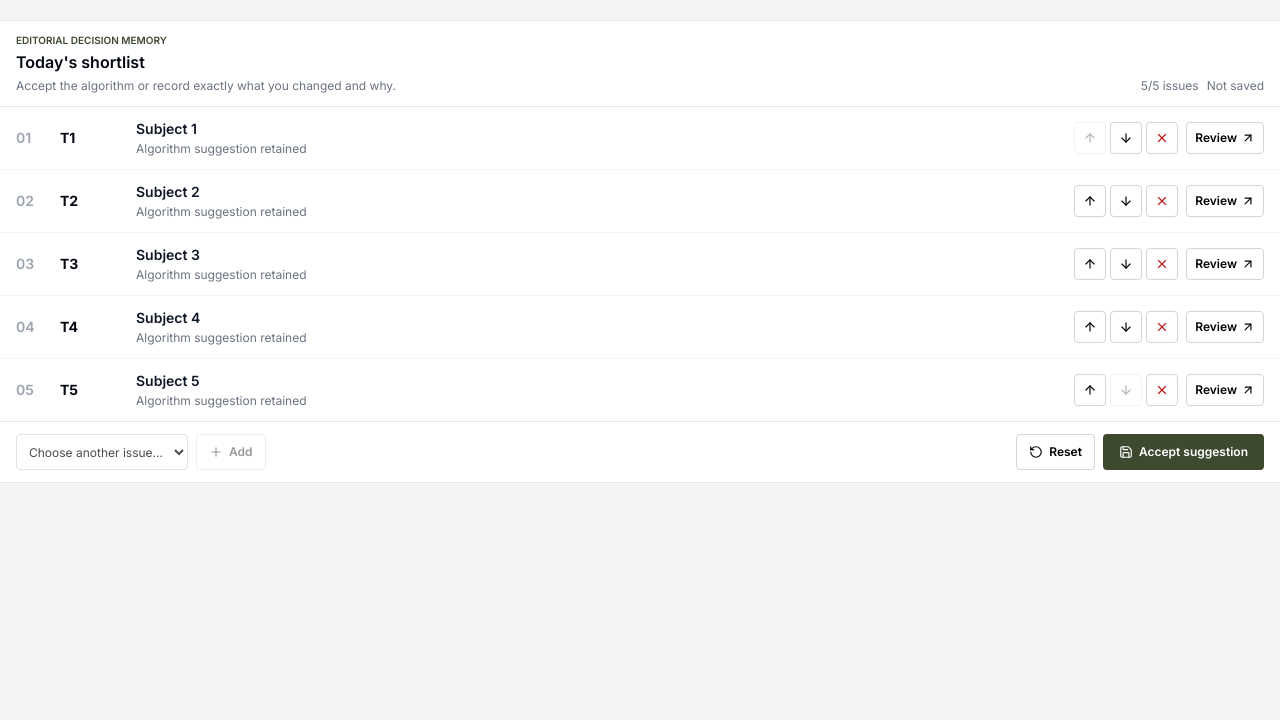
Test: NewsletterEditorialShortlist › resets dirty choices to the pinned evidence snapshot
This screenshot has width=1280, height=720.
Click the button named "Move T1 down" at (1126, 138), box x1=1110 y1=122 x2=1142 y2=154
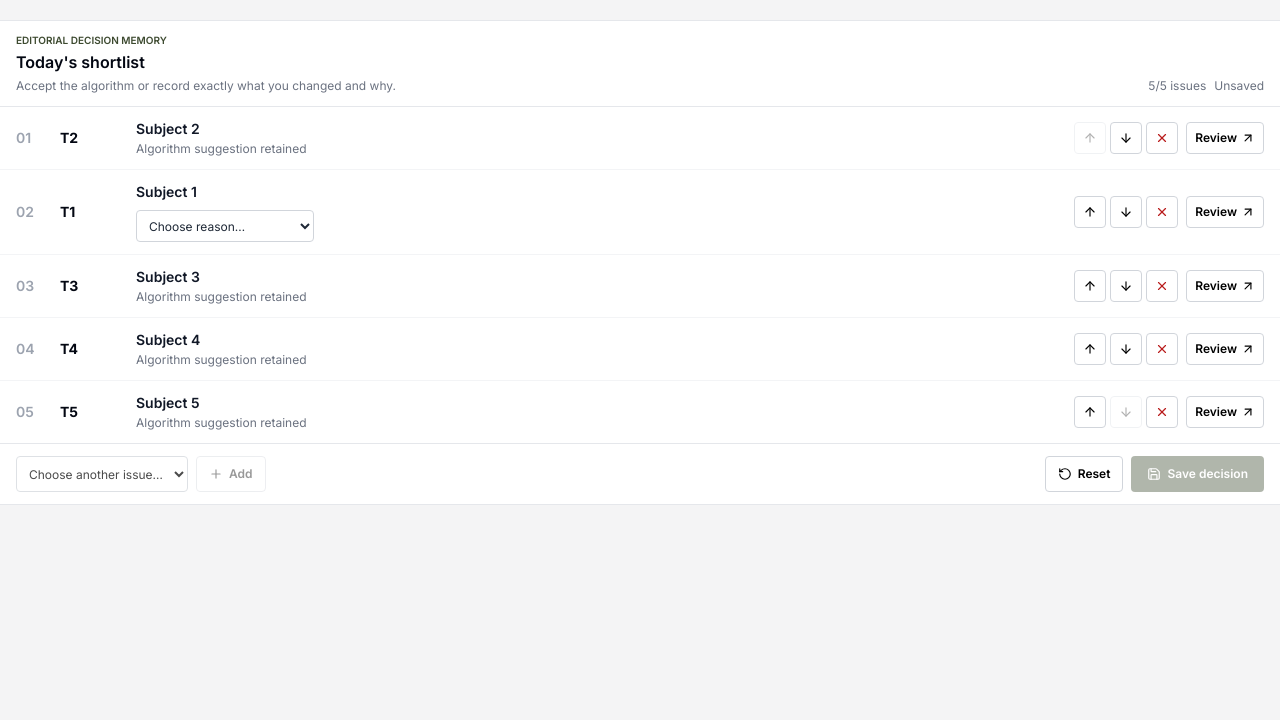
Now the text "Unsaved" is shown, box x1=1214 y1=78 x2=1264 y2=94
Click the button "Reset" at (1084, 474), box x1=1045 y1=456 x2=1124 y2=492
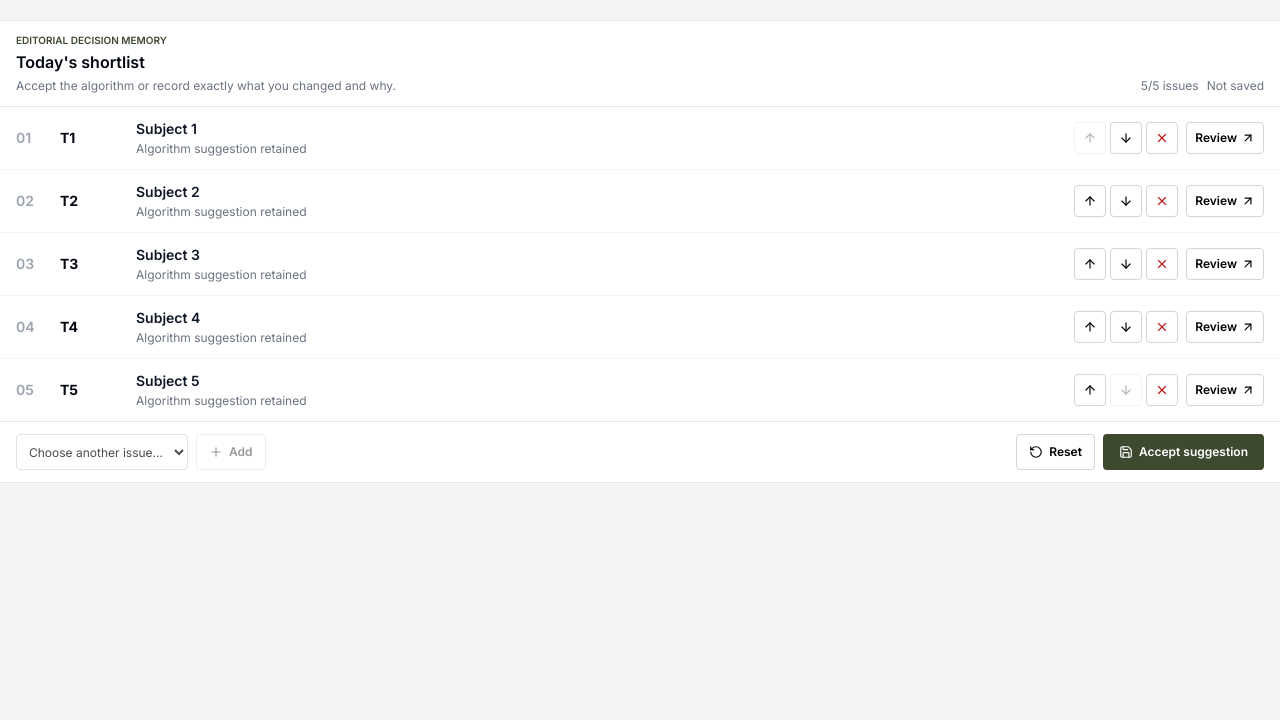
Now the text "Not saved" is shown, box x1=1207 y1=78 x2=1264 y2=94
